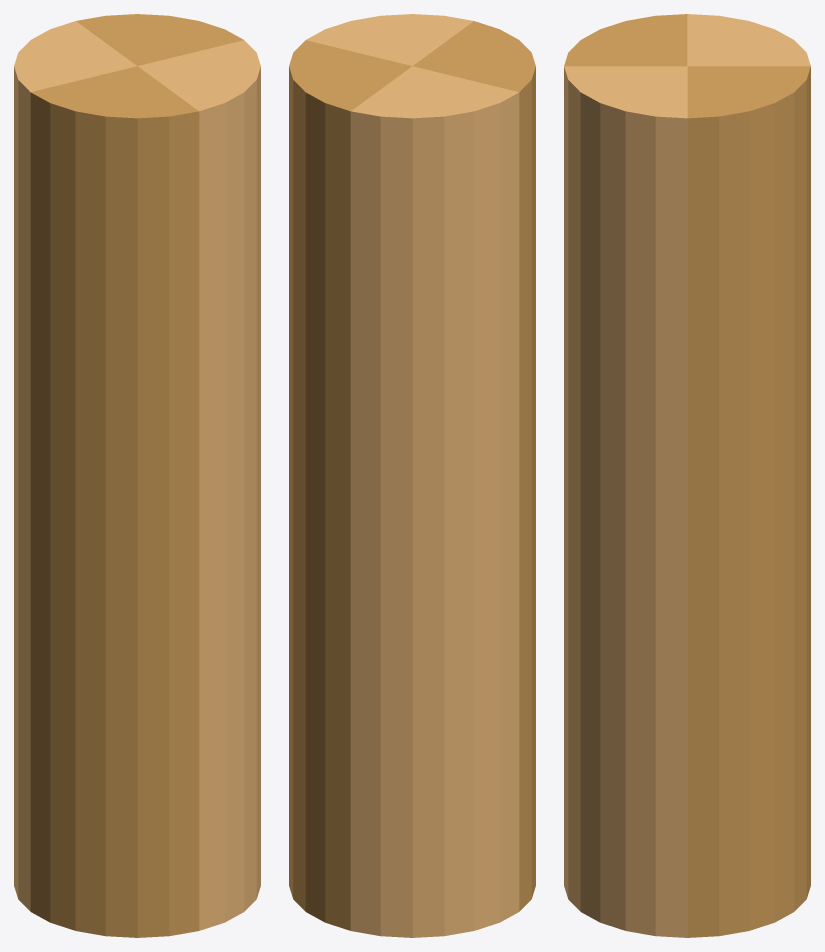
3 renders of one model, left to right at view 1: azimuth 30°, elevation 25°; view 2: azimuth 150°, elevation 25°; view 3: azimuth 270°, elevation 25°, orthographic.
Parts seen in each view (by area): view 1: model_0_NOSIMPLIFY; view 2: model_0_NOSIMPLIFY; view 3: model_0_NOSIMPLIFY.
Part boxes in pixels (x1,y1,x2,y2): model_0_NOSIMPLIFY: (14, 14, 260, 937); model_0_NOSIMPLIFY: (289, 14, 535, 937); model_0_NOSIMPLIFY: (564, 14, 810, 937).
Size of the model in its own units: 0.08 by 0.293 by 0.08.
